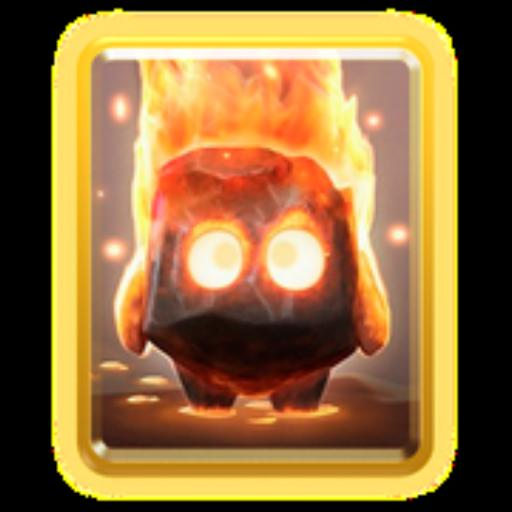fire-spirit: (88, 56, 424, 458)
